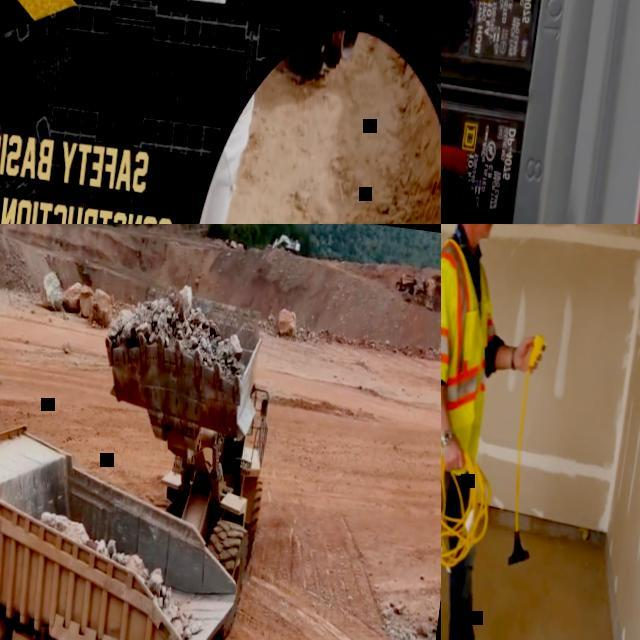vest: (441, 234, 505, 427)
